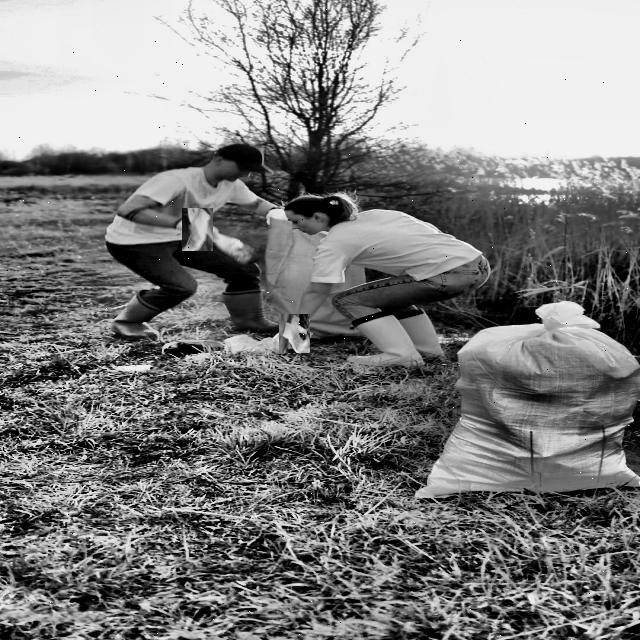gloved: (178, 212, 216, 248), (276, 316, 312, 352), (261, 202, 292, 232)
